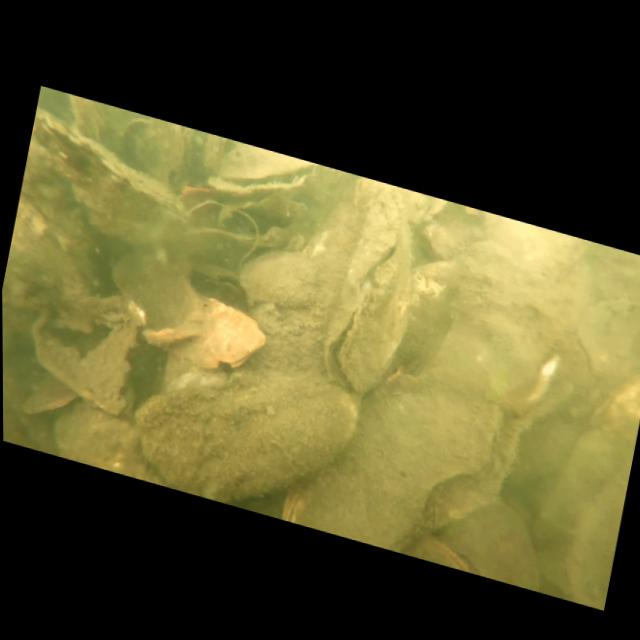Oyster-Closed: (279, 333, 525, 582), (418, 278, 601, 452), (17, 104, 201, 255), (142, 282, 272, 382), (3, 196, 107, 306), (187, 253, 250, 298)
Oyster-Indeterminate: (123, 325, 364, 537), (222, 232, 362, 388), (429, 484, 555, 594)
Oyster-Open: (316, 179, 433, 407), (205, 134, 320, 220), (214, 175, 317, 262)
